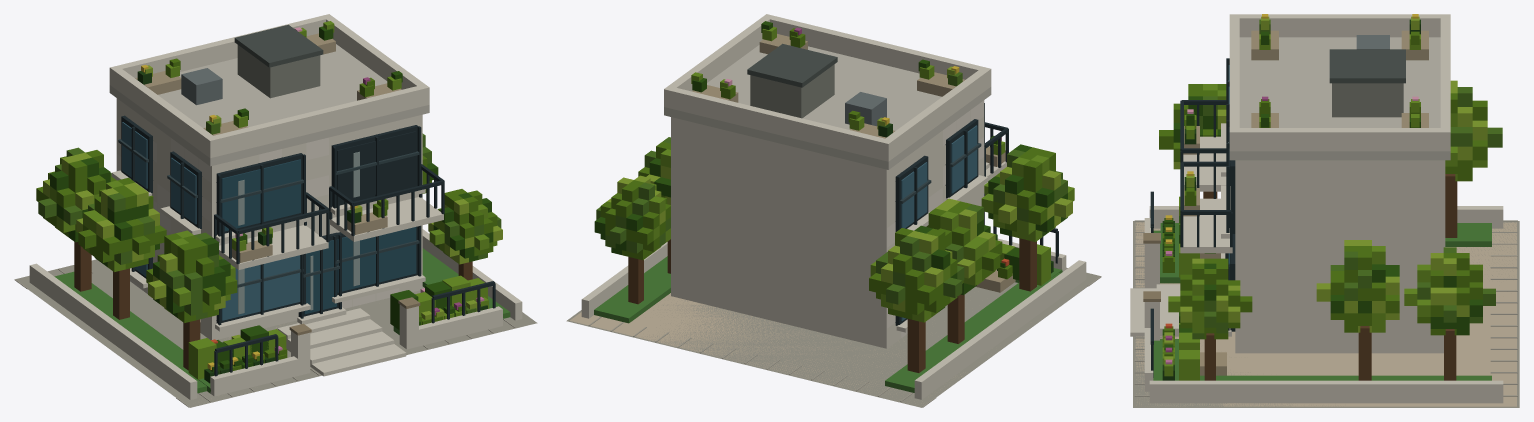
The model's file is SM_Mapa_021.fbx.
The picture shows the model from 3 angles, left to right: view 1: azimuth 30°, elevation 25°; view 2: azimuth 150°, elevation 25°; view 3: azimuth 270°, elevation 25°; orthographic projection. The views are drawn at different scales.
Parts seen in each view (by area): view 1: SM_Mapa_021; view 2: SM_Mapa_021; view 3: SM_Mapa_021.
Part boxes in pixels (box(x1,y1,x2,y2)): SM_Mapa_021: box(14, 14, 537, 407); SM_Mapa_021: box(566, 14, 1101, 407); SM_Mapa_021: box(1130, 14, 1519, 407).
Bounding box in the file's own units: 8 × 6.96 × 5.17.
